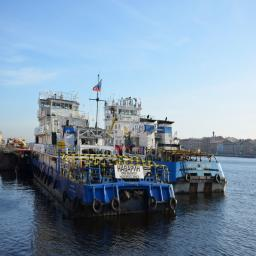tugboat: (28, 90, 179, 225)
